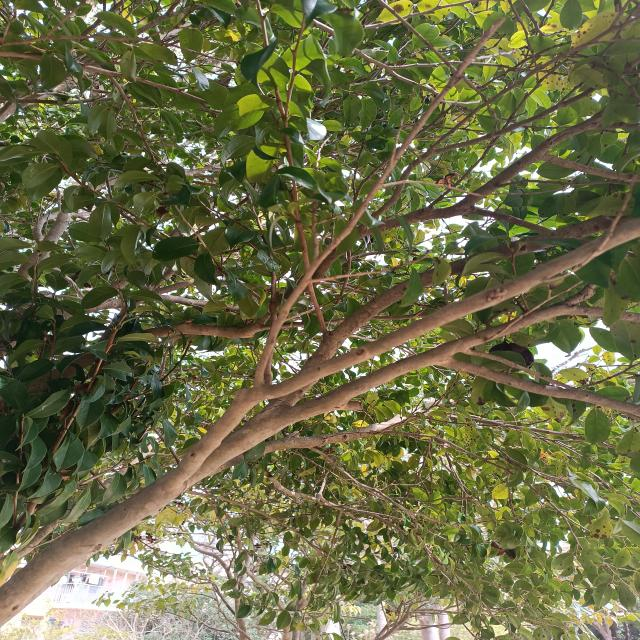Branch: (0, 472, 186, 627)
Twig: (181, 217, 640, 482), (254, 18, 501, 385), (195, 301, 640, 481), (23, 314, 263, 394), (463, 106, 605, 204), (438, 359, 640, 418), (358, 202, 475, 238), (475, 208, 551, 233)
